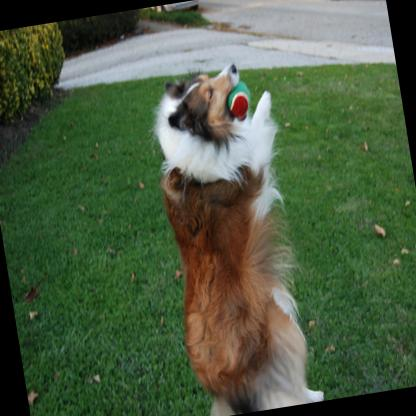Shetland_sheepdog: (141, 55, 325, 416)
